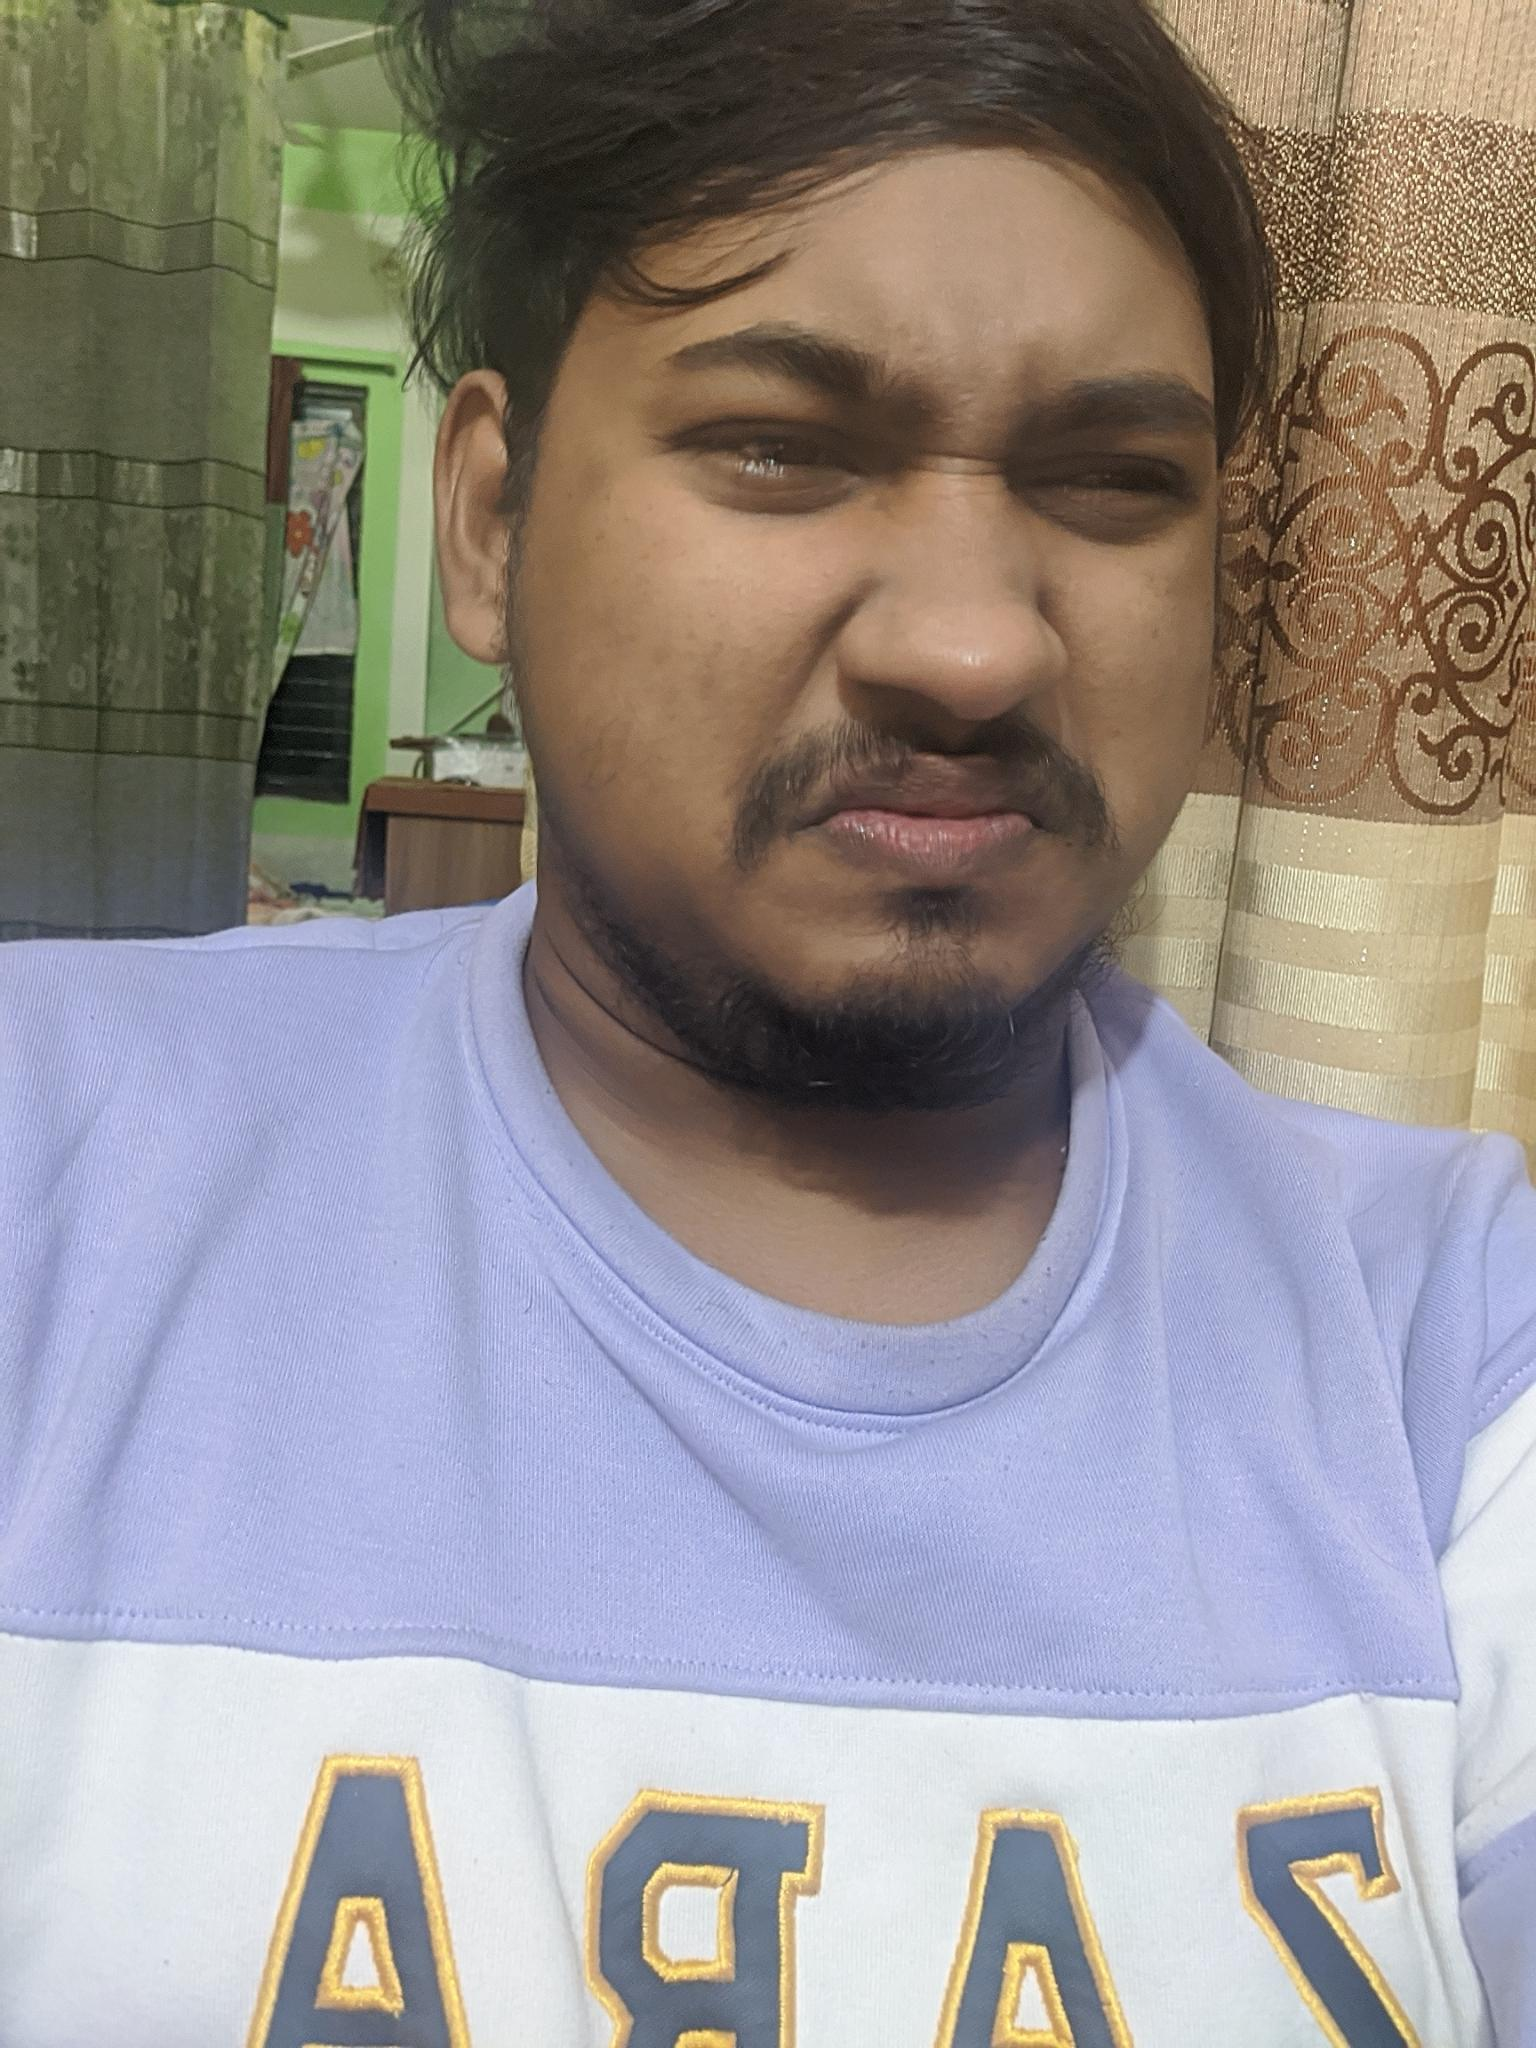Disgust: (632, 234, 1252, 1048)
